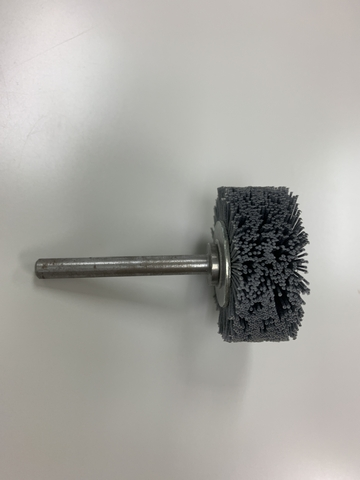Wheel Brush: (34, 184, 316, 345), (48, 186, 297, 345)
